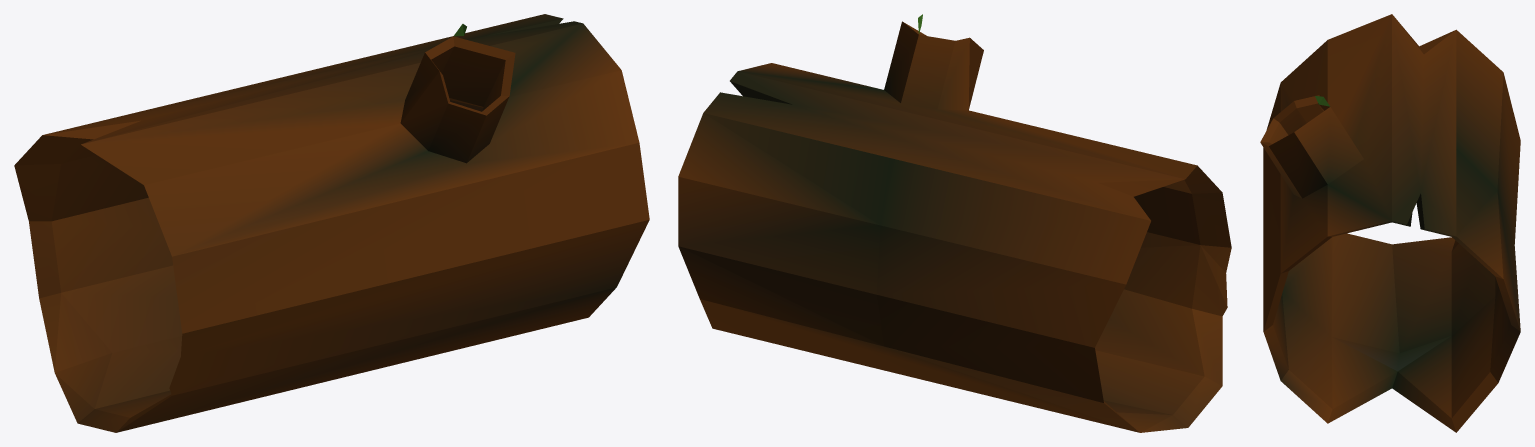
File: HollowTrunk.glb
The picture shows the model from 3 angles, left to right: view 1: azimuth 30°, elevation 25°; view 2: azimuth 150°, elevation 25°; view 3: azimuth 270°, elevation 25°; orthographic projection. The views are drawn at different scales.
Visible parts, largest first — view 1: Cylinder; view 2: Cylinder; view 3: Cylinder.
Boxes of the visible parts, bbox=[...] form: Cylinder: bbox=[14, 14, 649, 432]; Cylinder: bbox=[678, 14, 1231, 432]; Cylinder: bbox=[1260, 14, 1520, 432].
Bounding box in the file's own units: 3.81 × 2.49 × 2.03.
